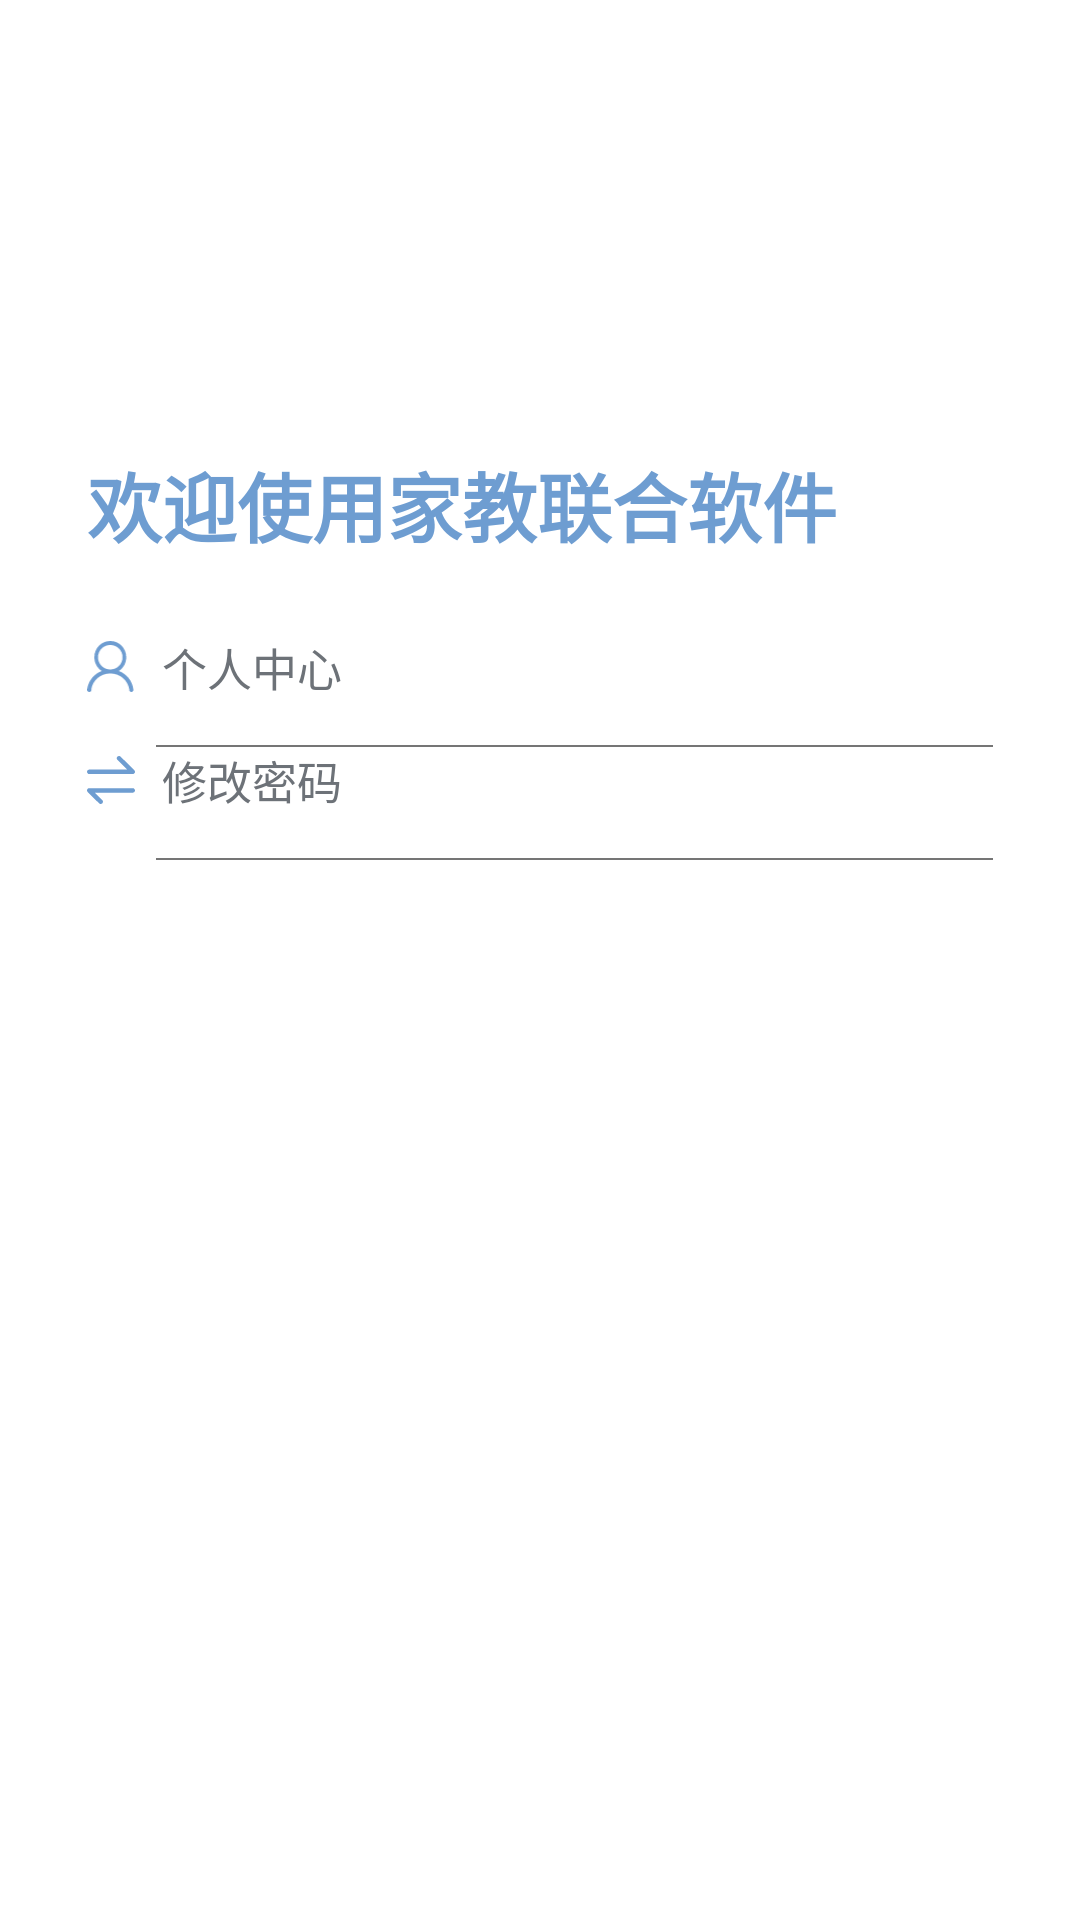

Named icons in this screenshot (1080px x 1920px) and their bounding boxes, region(x1, y1, x2, y2):
change account: region(87, 756, 135, 804)
user center: region(87, 641, 134, 692)
